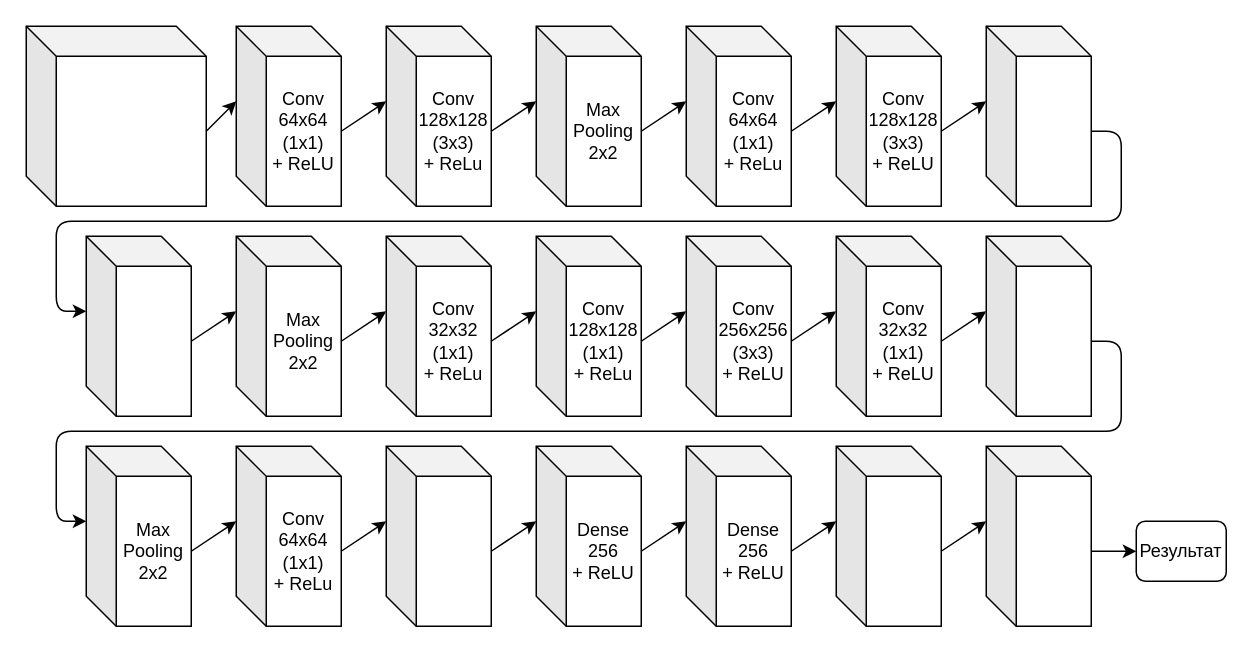
This 1253x653 diagram has some shape labels left out. Each missing label, with the box of its shape:
Conv 16x16 (1x1) + ReLU: (985, 25, 1091, 206)
Conv 32x32 (3x3) + ReLU: (85, 235, 191, 416)
Conv 64x64 (3x3) + ReLU: (985, 235, 1091, 416)
Dense 1 + Sigmoid: (985, 445, 1091, 626)
Dropout 0.5: (835, 445, 941, 626)
Flatten: (385, 445, 491, 626)
Image 128x128: (25, 25, 206, 206)
